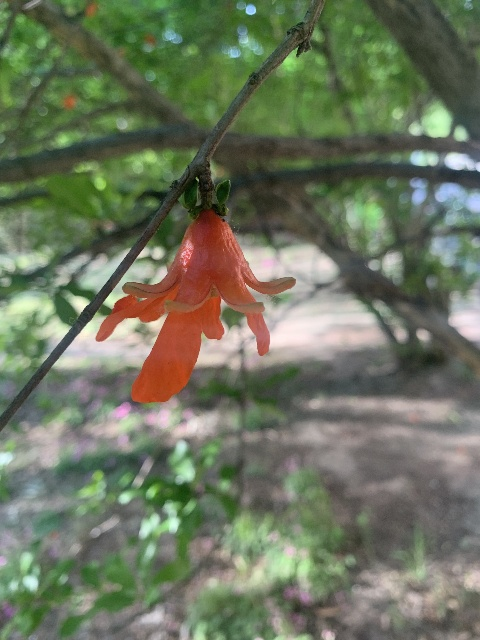flower: (95, 207, 298, 403)
